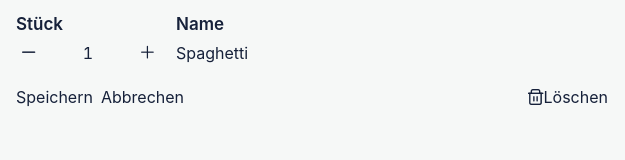
Test: EintragBearbeiten › zeigt Feldfehler aus dem Backend an
Clear the field with id "name-1" at (392, 53), box [176,43,608,63]
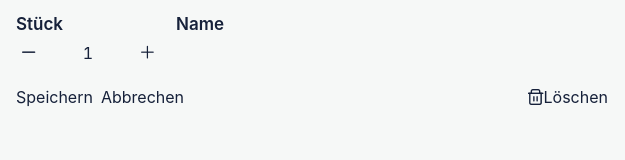
Submit the form
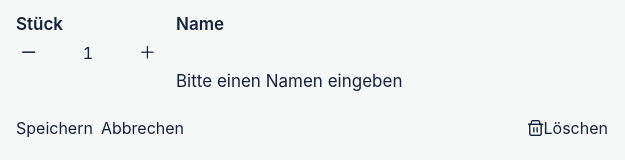
Result: the form shows "Bitte einen Namen eingeben" at [176,71,402,91]
